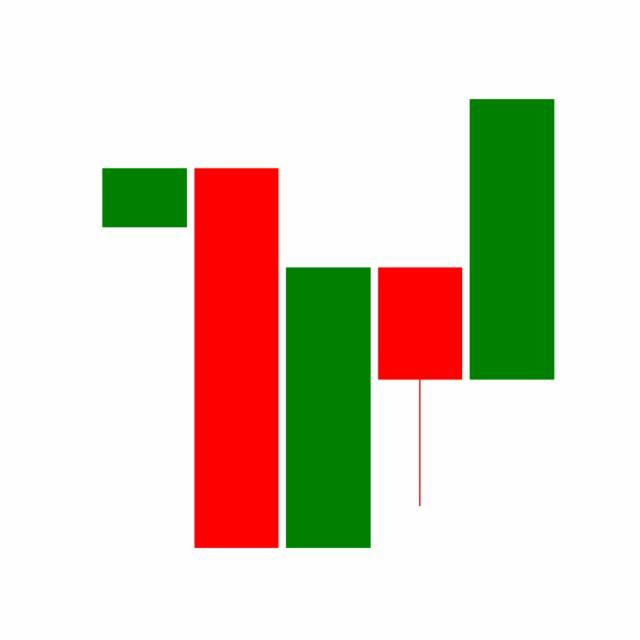Hammer: (374, 265, 468, 510)
